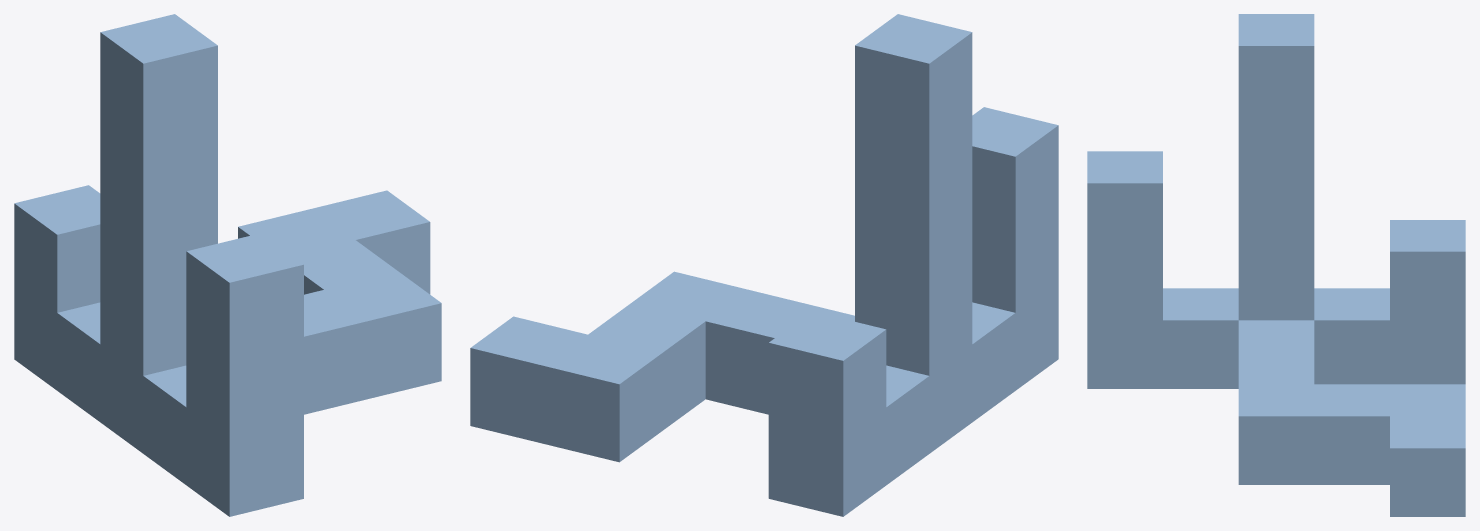
3 renders of one model, left to right at view 1: azimuth 30°, elevation 25°; view 2: azimuth 150°, elevation 25°; view 3: azimuth 270°, elevation 25°, orthographic. The views are drawn at different scales.
Visible parts, largest first — view 1: _changes (2).024; view 2: _changes (2).024; view 3: _changes (2).024.
Boxes of the visible parts, <box> form: _changes (2).024: <box>14,14,441,516</box>; _changes (2).024: <box>470,14,1058,516</box>; _changes (2).024: <box>1087,14,1465,516</box>.
Size of the model in its own units: 0.1999 by 0.1999 by 0.1999.
